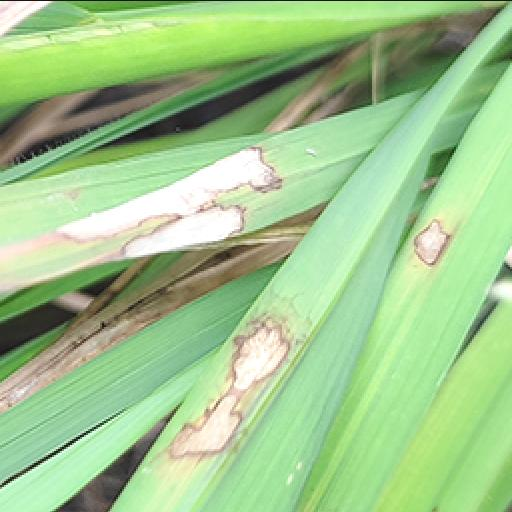Leaf Blast Disease: (0, 226, 308, 412), (54, 130, 294, 270), (160, 308, 314, 472), (402, 216, 462, 278)
